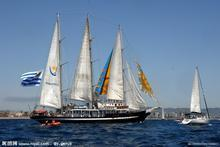fanchuan: (27, 10, 157, 127), (181, 65, 214, 129)
